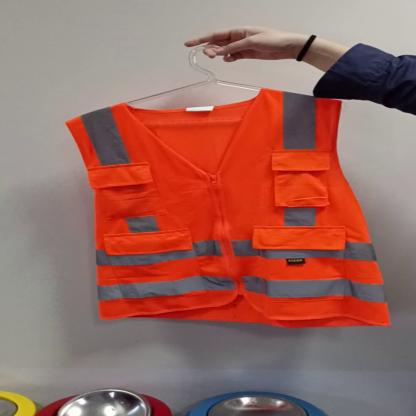colete: (59, 87, 393, 335)
